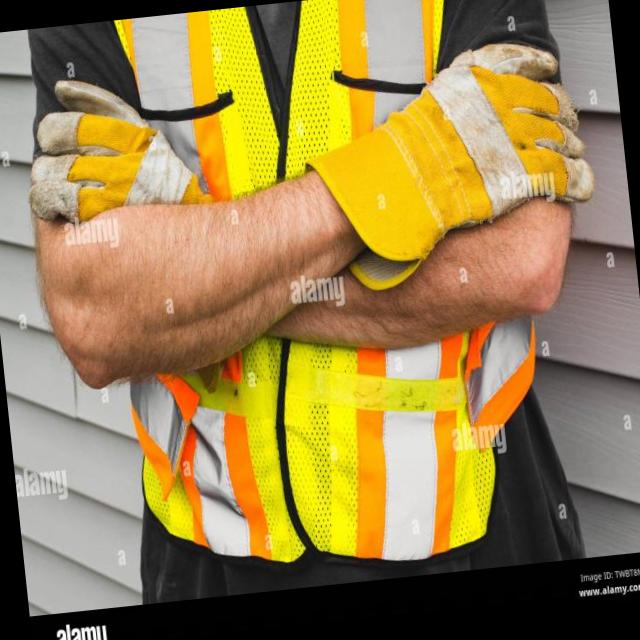Gloves: (324, 28, 597, 285), (27, 52, 224, 222)
Vest: (74, 0, 530, 596)
